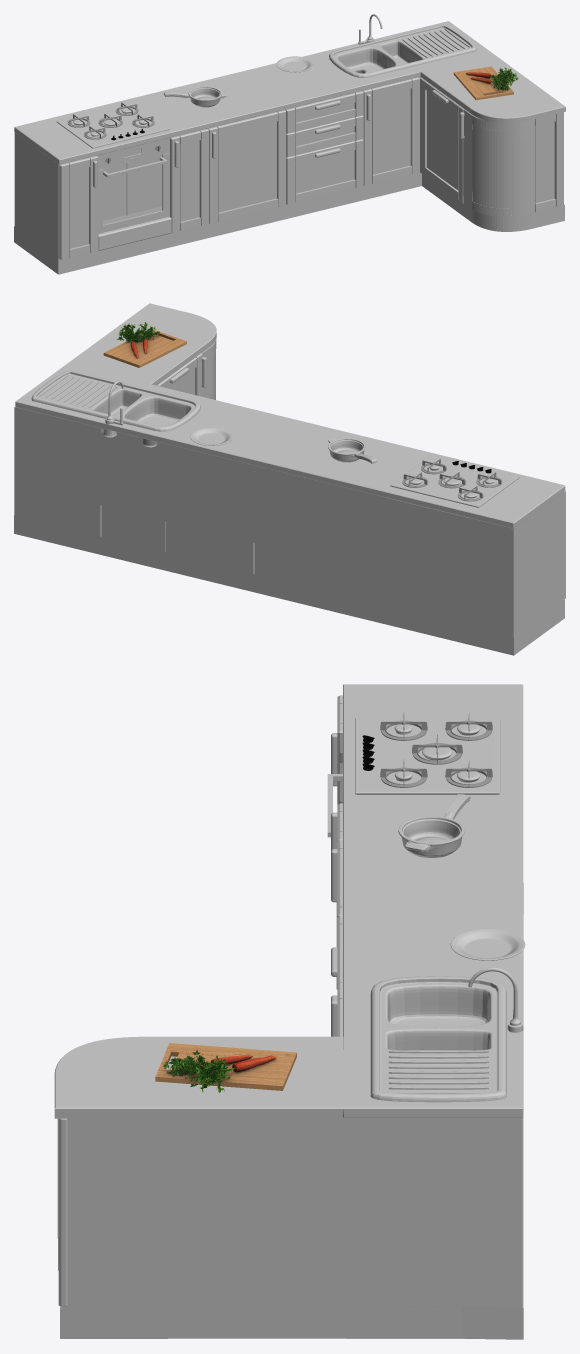
Rendered from Kitchen.fbx.
3 views of the same model, one above another, from view 1: azimuth 30°, elevation 25°; view 2: azimuth 150°, elevation 25°; view 3: azimuth 270°, elevation 25° (orthographic). The views are drawn at different scales.
Visible parts, largest first — view 1: Kitchen Italian A1; view 2: Kitchen Italian A1; view 3: Kitchen Italian A1.
Part boxes in pixels (box(x1,y1,x2,y2)): Kitchen Italian A1: box(14, 14, 565, 274); Kitchen Italian A1: box(14, 303, 565, 655); Kitchen Italian A1: box(54, 684, 525, 1339).
Bounding box in the file's own units: 5083 × 1632 × 2378.
